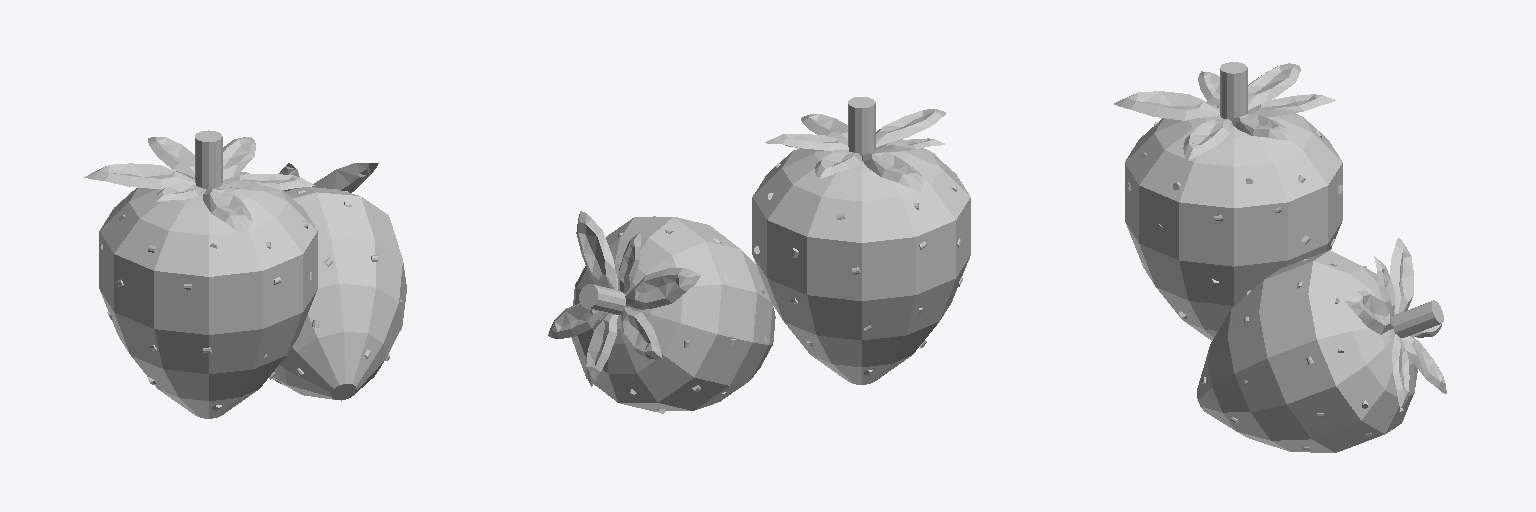
The model's file is strawberry.obj.
3 renders of one model, left to right at view 1: azimuth 30°, elevation 25°; view 2: azimuth 150°, elevation 25°; view 3: azimuth 270°, elevation 25°, orthographic.
Size of the model in its own units: 0.9513 by 0.8459 by 0.833.